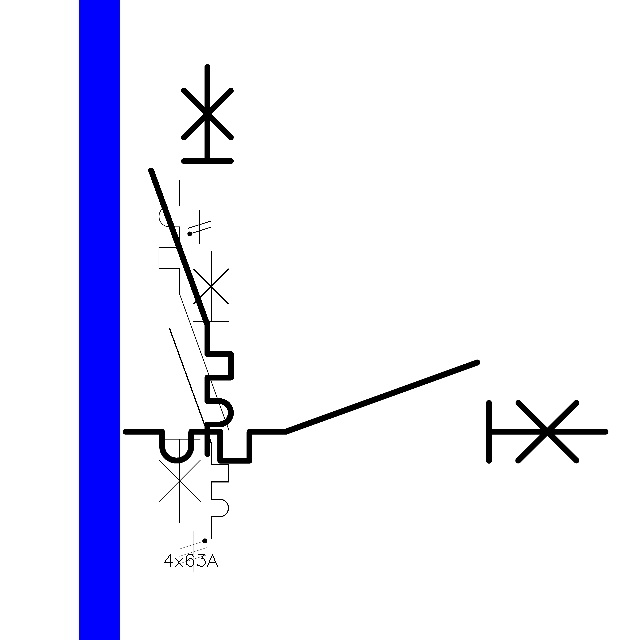interruptor_termomagnetico: (113, 350, 617, 473), (141, 57, 241, 464), (150, 171, 238, 531), (162, 244, 236, 546)
